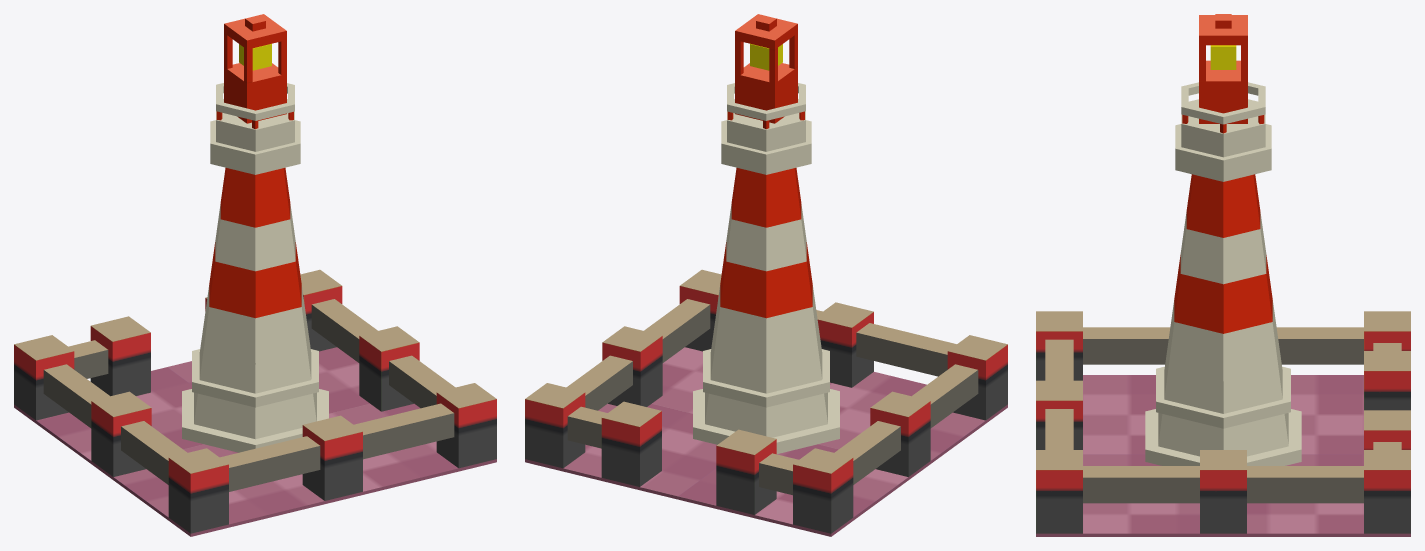
The model's file is tile_lighthouse.fbx.
The picture shows the model from 3 angles, left to right: view 1: azimuth 30°, elevation 25°; view 2: azimuth 150°, elevation 25°; view 3: azimuth 270°, elevation 25°; orthographic projection. The views are drawn at different scales.
Parts seen in each view (by area): view 1: tile_lighthouse; view 2: tile_lighthouse; view 3: tile_lighthouse.
Boxes of the visible parts, x1=… form: tile_lighthouse: x1=14, y1=14, x2=496, y2=536; tile_lighthouse: x1=525, y1=14, x2=1007, y2=536; tile_lighthouse: x1=1036, y1=14, x2=1410, y2=536.
Bounding box in the file's own units: 200 × 259 × 200.
1 material, 1 textured.
